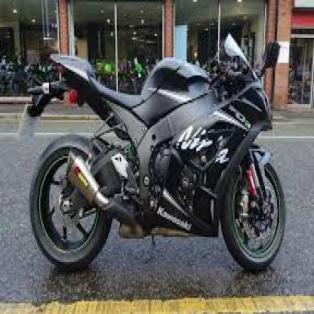Motocicleta: (18, 20, 288, 276)
